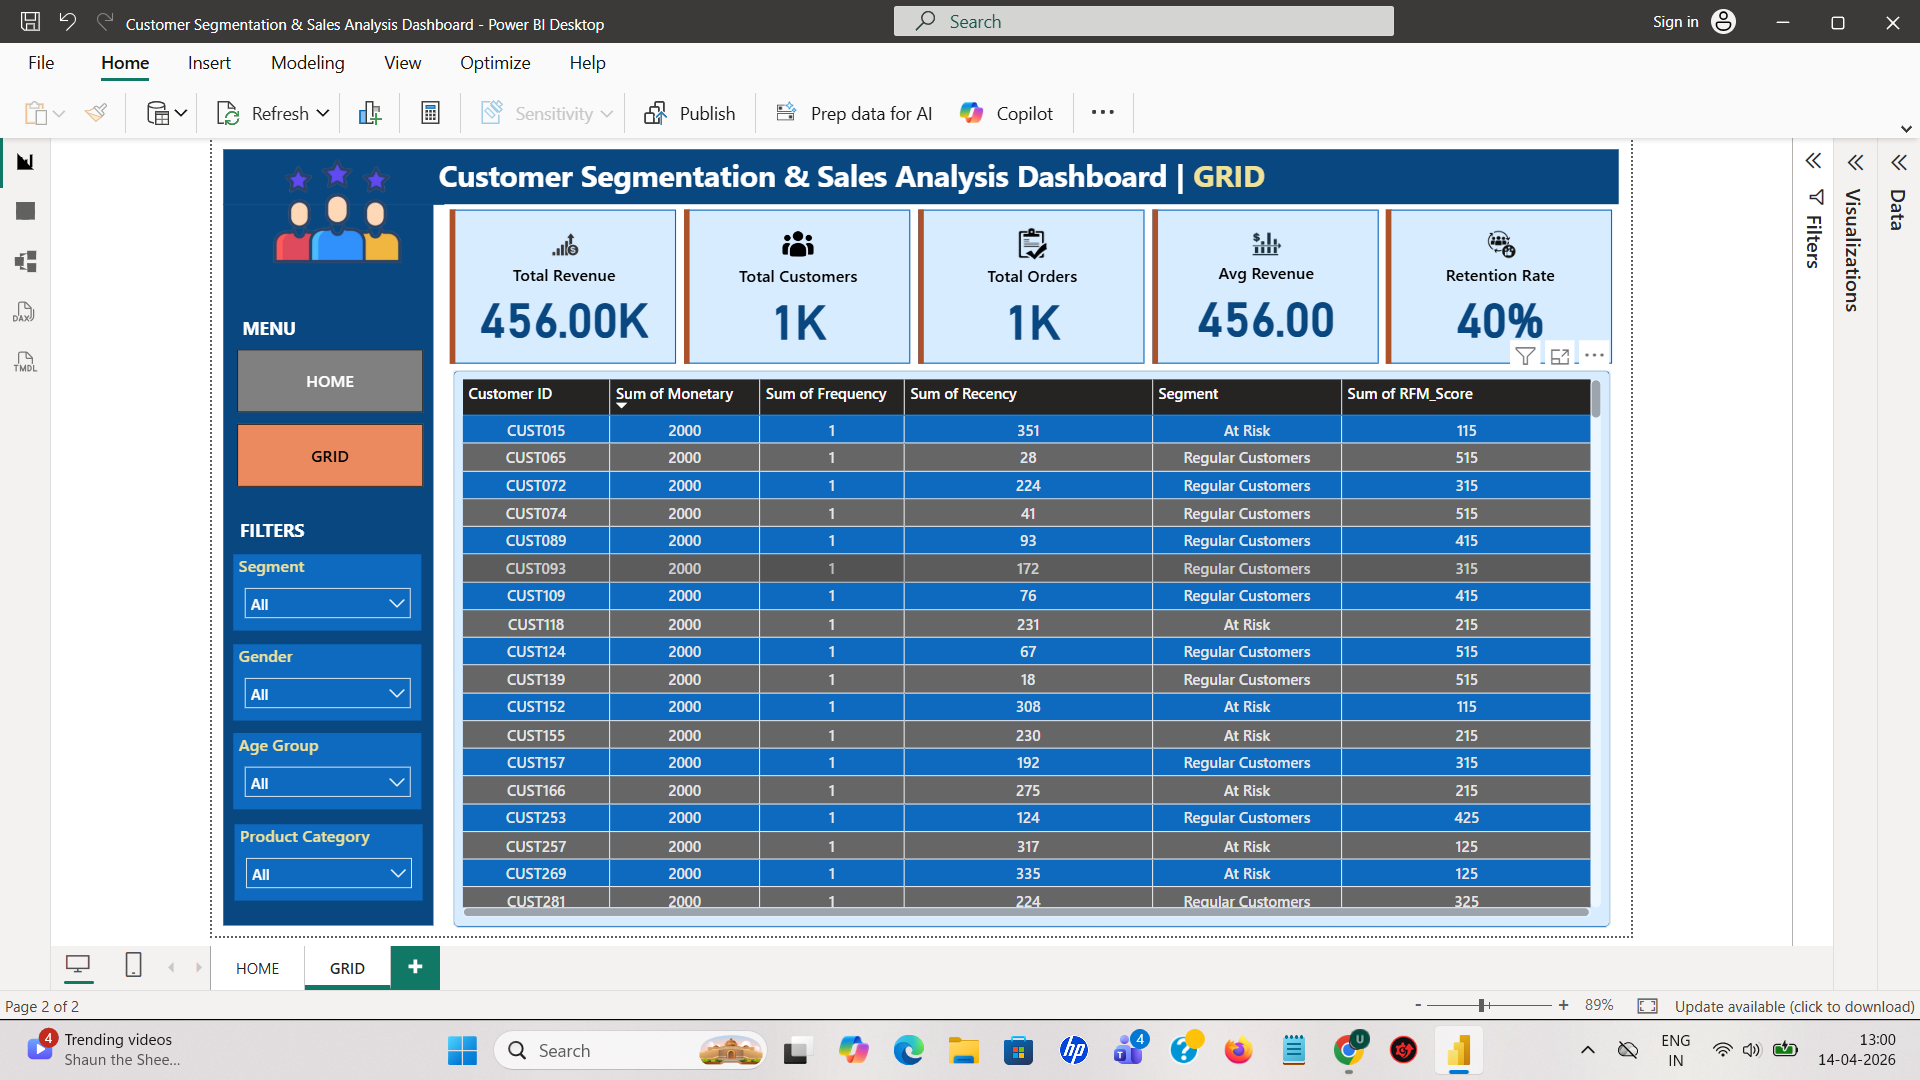

The page's visual inventory and layout, read from the dashboard file:
{"tool":"powerbi","page":{"name":"GRID","canvas":[1280,720],"ordinal":1},"visuals":[{"type":"shape","box":[9.8,9.8,1258.3,50.1],"z":0},{"type":"shape","box":[9.8,59.9,189.5,650.5],"z":1000},{"type":"cardVisual","fields":{"Data":["retail_sales_dataset.Total Revenue","retail_sales_dataset.Total Customers","retail_sales_dataset.Total Orders","retail_sales_dataset.Avg Revenue","rfm_output.Retention Rate"]},"box":[209.1,59.9,1059,149.2],"z":2000},{"type":"textbox","box":[199.3,9.8,915.9,48.9],"z":3000},{"type":"slicer","title":"Segment","fields":{"Values":["rfm_output.Segment"]},"box":[19.6,375.4,170,68.5],"z":4000},{"type":"slicer","title":"Gender","fields":{"Values":["retail_sales_dataset.Gender"]},"box":[19.6,456.1,170,68.5],"z":5000},{"type":"slicer","title":"Age Group","fields":{"Values":["retail_sales_dataset.Age_Group"]},"box":[19.6,536.8,170,68.5],"z":6000},{"type":"slicer","title":"Product Category","fields":{"Values":["retail_sales_dataset.Product Category"]},"box":[20.8,618.8,170,68.5],"z":7000},{"type":"tableEx","fields":{"Values":["rfm_output.Customer ID","Sum(rfm_output.Monetary)","Sum(rfm_output.Frequency)","Sum(rfm_output.Recency)","rfm_output.Segment","Sum(rfm_output.RFM_Score)"]},"box":[217.7,209.1,1043.1,501.4],"z":8000},{"type":"textbox","box":[20.8,337.5,77,35.5],"z":9000},{"type":"pageNavigator","box":[22,190.8,168.8,126],"z":10000},{"type":"image","box":[50.1,3.7,127.2,130.8],"z":11000},{"type":"textbox","box":[22,155.3,75.8,53.8],"z":12000}]}

Visuals, with their boxes on the page's 1280x720 design canvas (x1, y1, x2, y2). These are canvas units, not pixel positions in the 1920x1080 screenshot, which may show the page scaled, cropped or inside an application window:
shape: detection(10, 10, 1268, 60)
shape: detection(10, 60, 199, 710)
cardVisual - retail_sales_dataset.Total Revenue x retail_sales_dataset.Total Customers: detection(209, 60, 1268, 209)
textbox: detection(199, 10, 1115, 59)
"Segment" slicer: detection(20, 375, 190, 444)
"Gender" slicer: detection(20, 456, 190, 525)
"Age Group" slicer: detection(20, 537, 190, 605)
"Product Category" slicer: detection(21, 619, 191, 687)
tableEx - rfm_output.Customer ID x Sum(rfm_output.Monetary): detection(218, 209, 1261, 710)
textbox: detection(21, 338, 98, 373)
pageNavigator: detection(22, 191, 191, 317)
image: detection(50, 4, 177, 134)
textbox: detection(22, 155, 98, 209)
